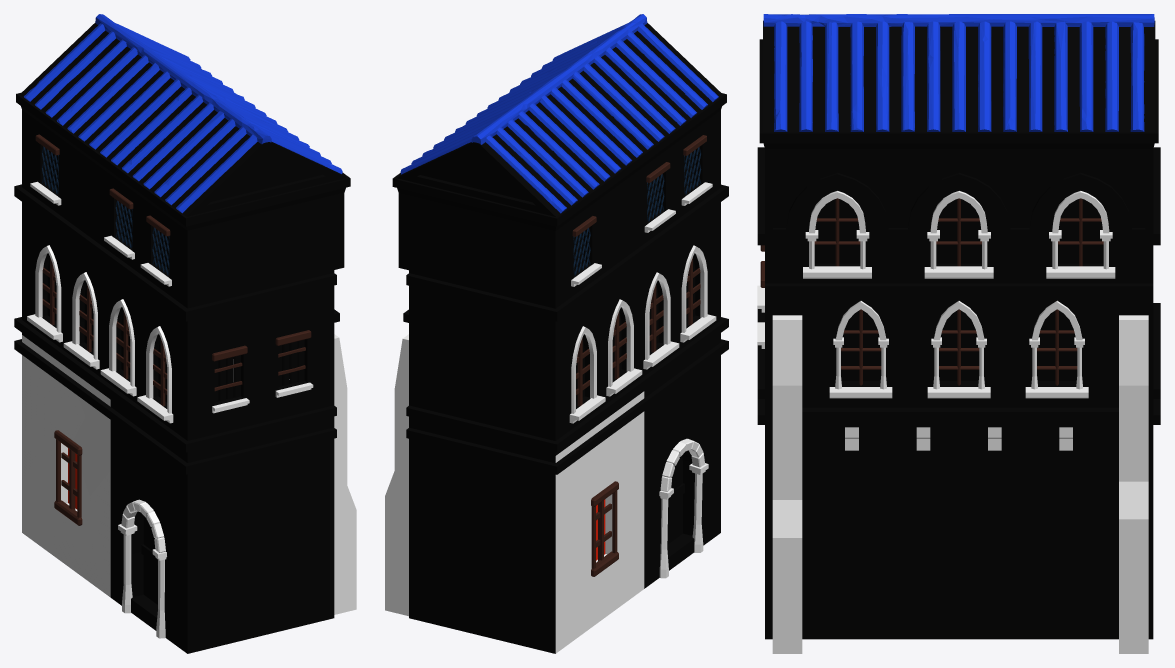
Rendered from civilian_house_18_b.FBX.
3 renders of one model, left to right at view 1: azimuth 30°, elevation 25°; view 2: azimuth 150°, elevation 25°; view 3: azimuth 270°, elevation 25°, orthographic. The views are drawn at different scales.
Parts seen in each view (by area): view 1: civilian_house_18 _b; view 2: civilian_house_18 _b; view 3: civilian_house_18 _b.
Part boxes in pixels (x1=…): civilian_house_18 _b: x1=14, y1=14, x2=356, y2=653; civilian_house_18 _b: x1=385, y1=14, x2=728, y2=653; civilian_house_18 _b: x1=757, y1=14, x2=1160, y2=653.
Bounding box in the file's own units: 634 × 1666 × 1038.
